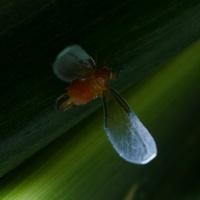insect: (53, 45, 156, 163)
